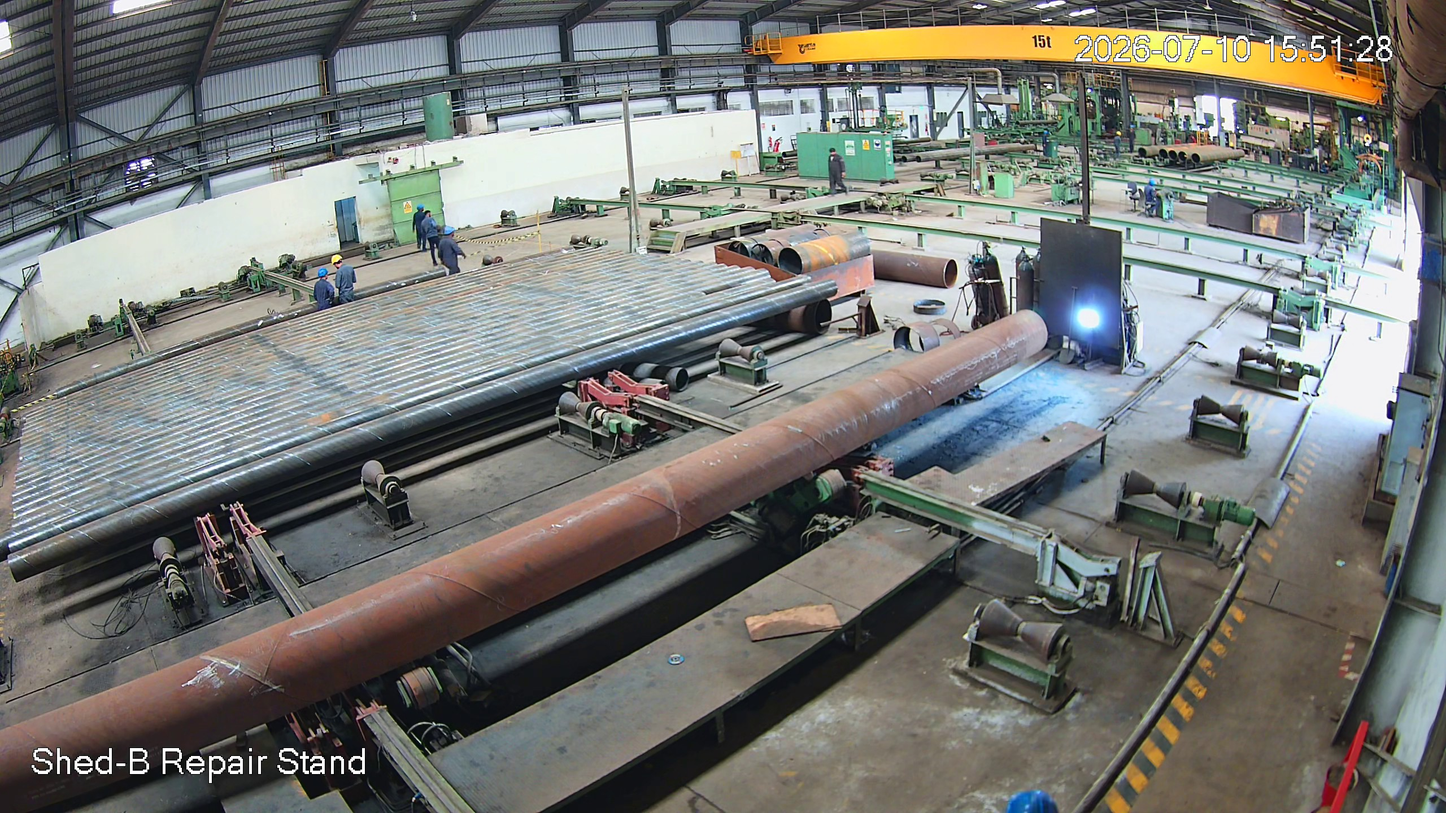Helmet: (330, 253, 351, 274), (442, 224, 459, 241), (317, 266, 330, 284), (413, 202, 424, 213)
Person: (331, 254, 364, 308), (440, 226, 465, 277), (423, 207, 441, 259), (316, 269, 338, 307), (414, 203, 425, 252)
